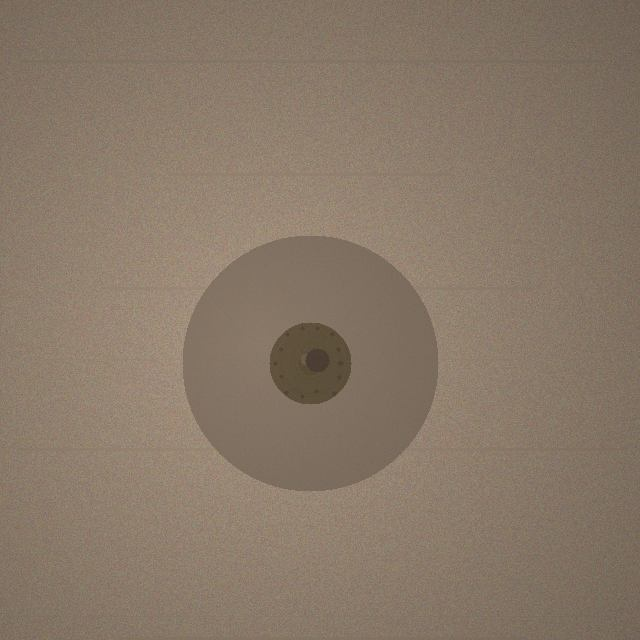cold_weld: (182, 235, 438, 491)
